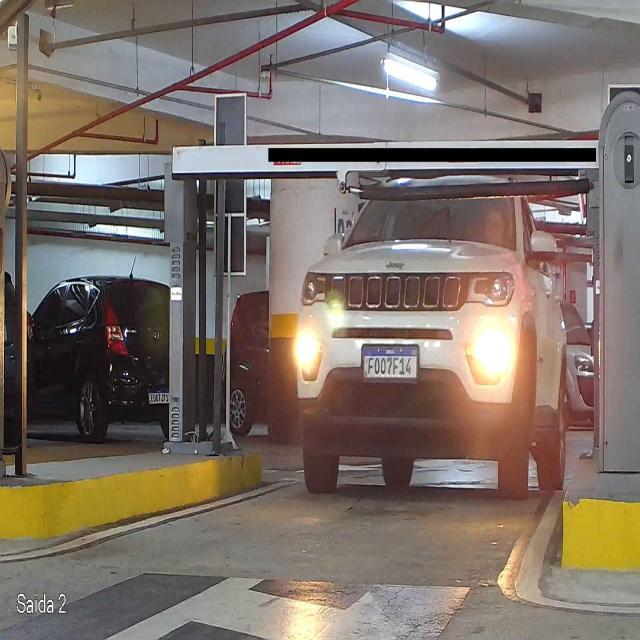mercosul_plate: (359, 342, 422, 386)
